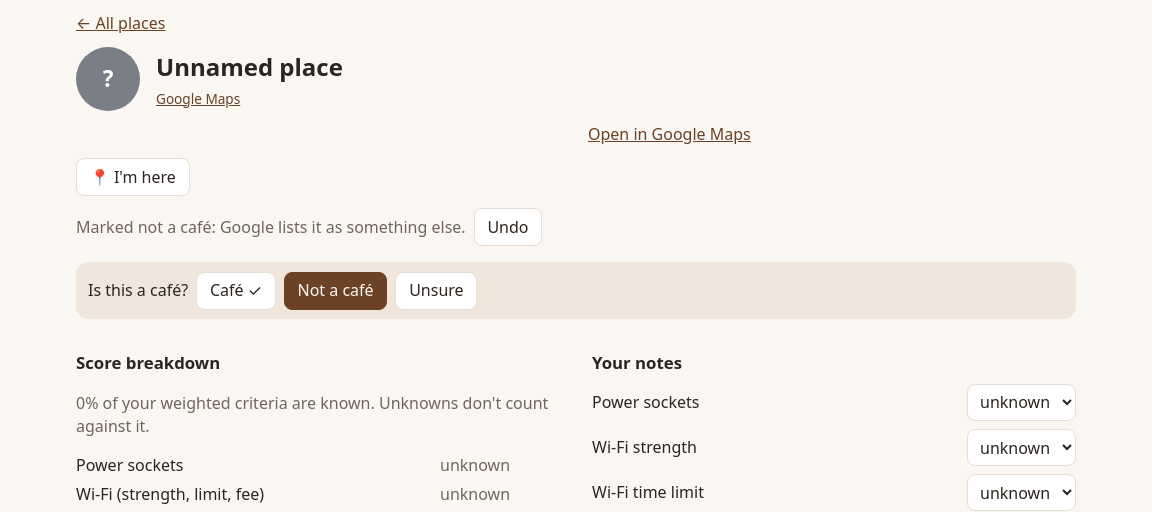
Test: with a Google Maps key › explains Google verdicts and lets the owner undo them
The image size is (1152, 512).
Expected: the text "Marked not a café: Google lists it as something else." is shown, [76, 216, 466, 239]
Click the button "Undo".
click(508, 227)  # box [474, 208, 542, 246]
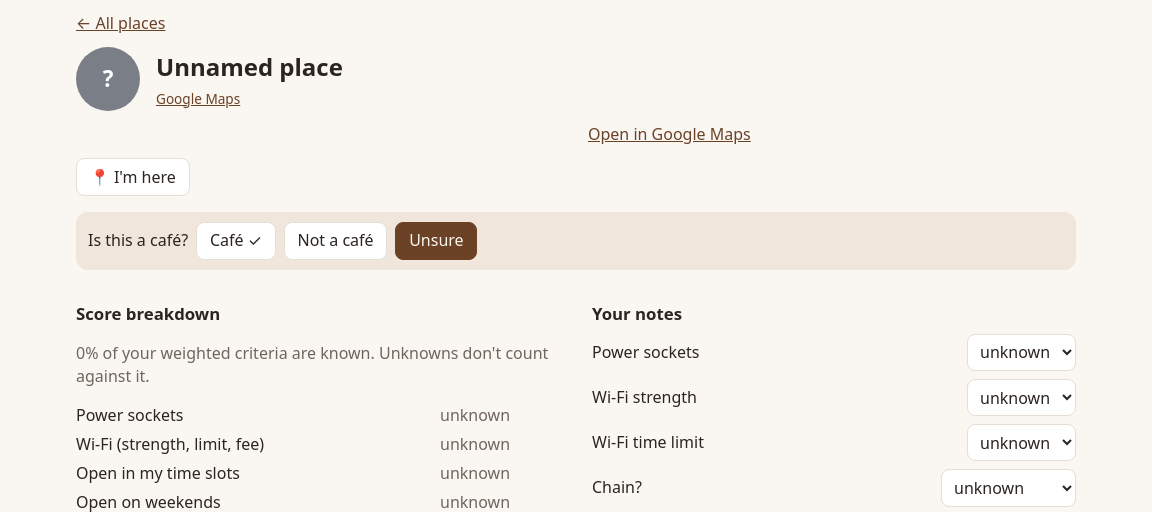
Now the button "Unsure" is pressed, box [395, 222, 477, 260]
